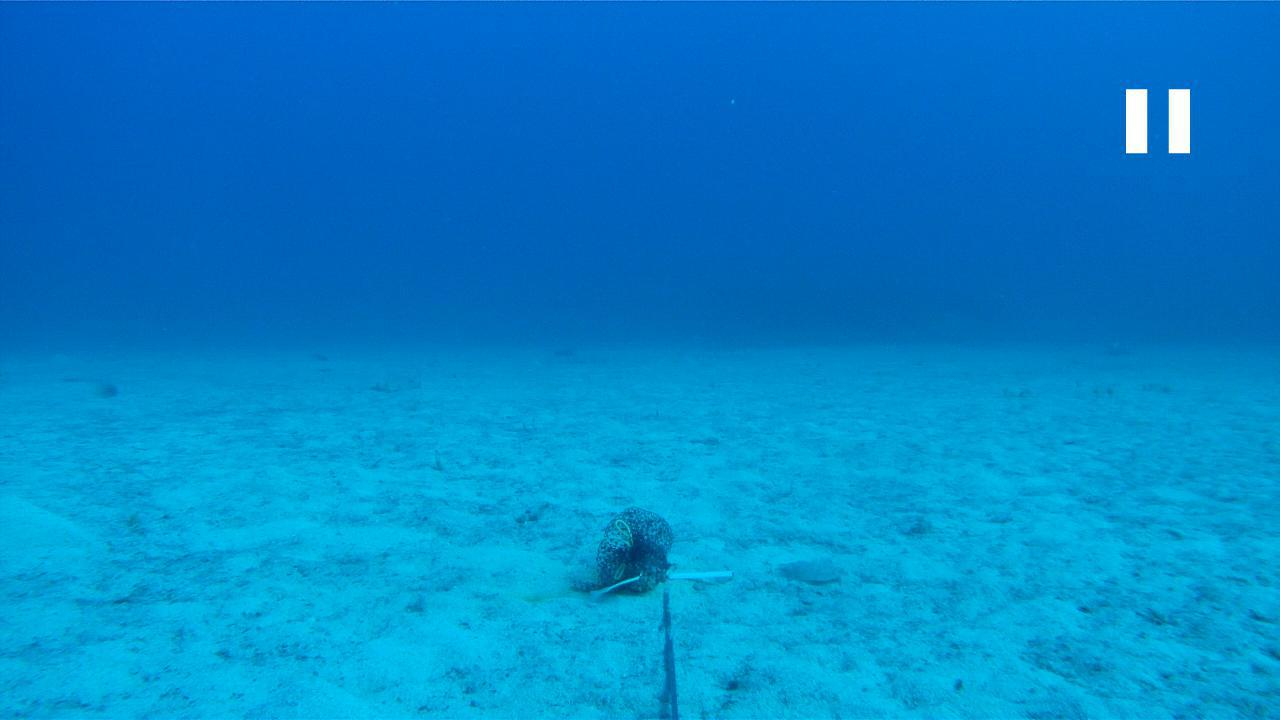bothus: (772, 556, 846, 586)
